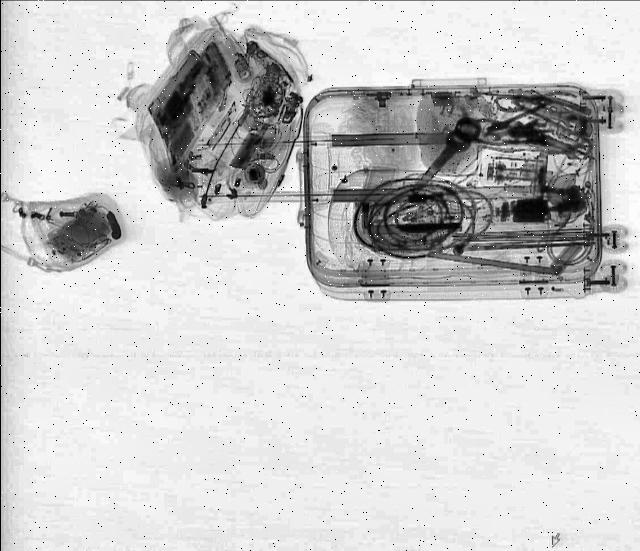Pliers: (466, 118, 552, 154), (513, 88, 575, 114)
Wrench: (514, 100, 578, 132)
